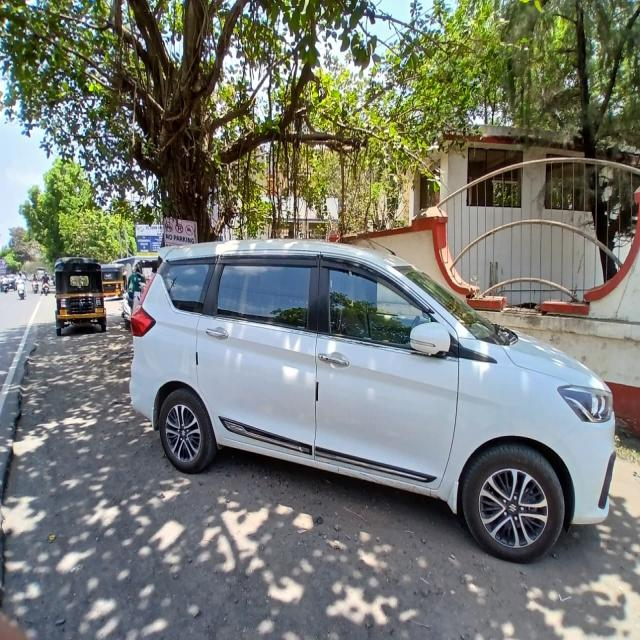illegalparking: (99, 194, 636, 579)
